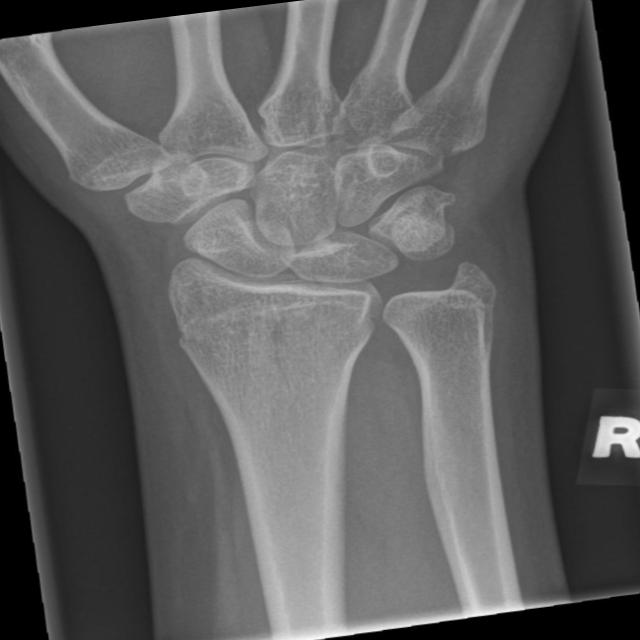fracture: (163, 274, 384, 370)
